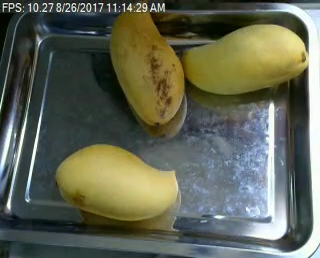Mango: (56, 142, 179, 220), (108, 0, 184, 126), (181, 24, 310, 93)
